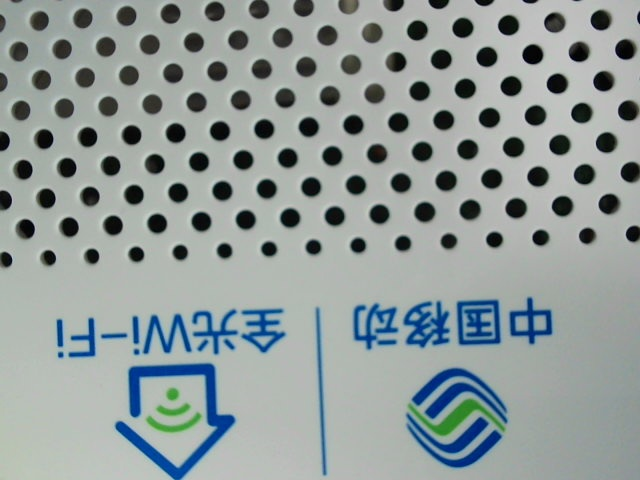BJ_QuanGuangMobile: (52, 287, 560, 479)
